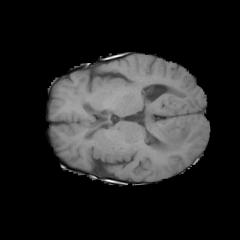glioma: (148, 122, 189, 155)
